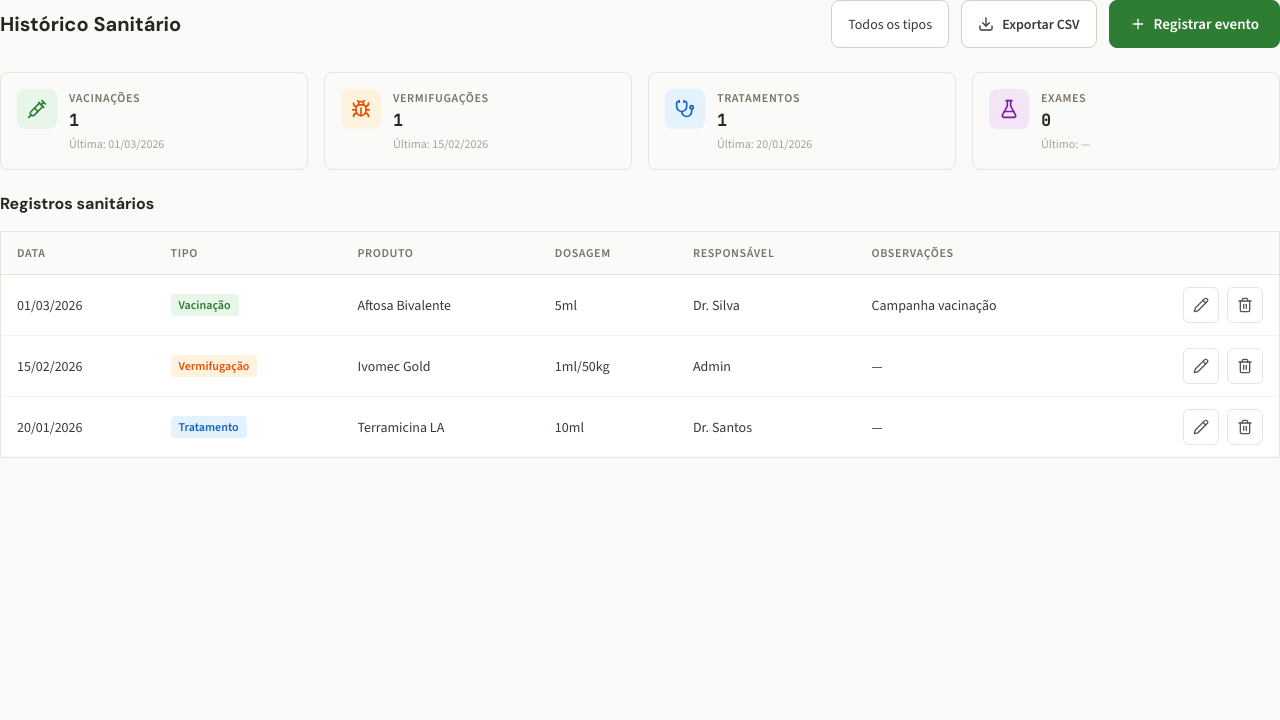
Scenario: SanitaryTab › opens create modal when clicking add button
Click the button "Registrar evento": (1194, 24) [1109,0,1279,48]
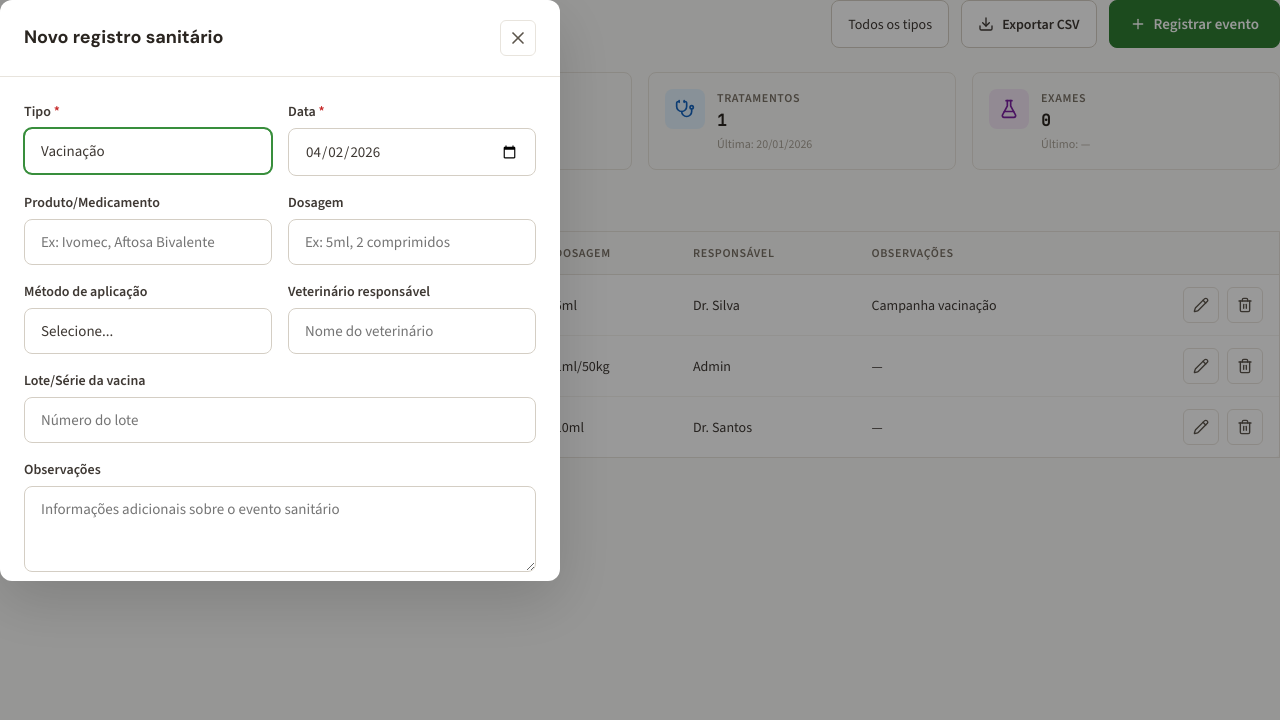
Result: the heading "Novo registro sanitário" is shown at [24,26,224,50]
Result: the dropdown labelled "Tipo *" is shown at [24,128,272,174]
